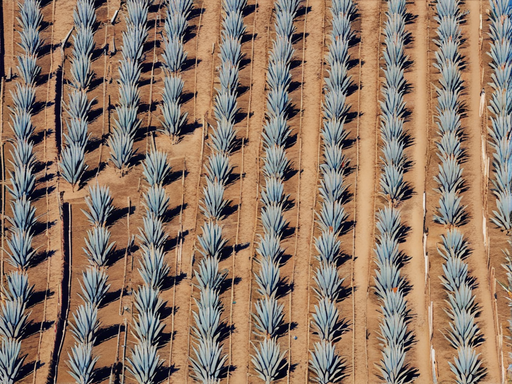agave: (1, 187, 57, 234), (62, 335, 113, 384), (60, 299, 110, 348), (246, 294, 296, 343), (1, 223, 49, 272), (186, 333, 232, 384), (53, 106, 104, 151), (184, 299, 232, 346), (305, 293, 350, 343), (443, 305, 488, 355), (368, 205, 410, 258), (369, 296, 414, 345), (371, 258, 416, 306), (122, 340, 171, 384), (76, 178, 120, 227), (79, 221, 121, 272), (305, 336, 349, 384), (189, 259, 239, 300), (192, 212, 233, 262), (372, 337, 415, 384), (105, 97, 148, 144), (370, 165, 418, 207), (247, 335, 288, 384), (125, 302, 168, 348), (444, 341, 490, 384), (153, 31, 196, 76), (11, 14, 53, 60), (303, 222, 348, 264), (193, 179, 239, 220), (429, 187, 472, 230), (134, 248, 174, 294), (74, 270, 122, 308), (3, 71, 45, 114), (249, 255, 289, 299), (3, 130, 42, 175), (110, 47, 151, 88), (307, 260, 347, 302), (313, 164, 355, 204), (135, 152, 181, 188), (62, 50, 101, 92), (374, 32, 416, 71), (1, 265, 44, 303), (254, 197, 297, 235), (258, 112, 302, 149), (252, 224, 293, 263), (135, 211, 174, 252), (311, 197, 351, 236), (208, 81, 248, 120), (429, 36, 472, 71), (315, 112, 358, 145), (212, 28, 250, 65), (431, 10, 470, 46), (263, 36, 305, 69), (107, 131, 138, 175), (433, 224, 470, 260), (375, 83, 412, 119), (1, 295, 33, 336), (57, 143, 88, 185), (199, 149, 241, 180), (117, 24, 154, 59), (69, 20, 103, 58), (321, 38, 363, 68), (158, 98, 190, 137), (318, 86, 353, 120), (258, 145, 295, 177), (325, 14, 363, 44), (433, 154, 464, 190), (159, 68, 195, 99), (1, 336, 33, 367)
